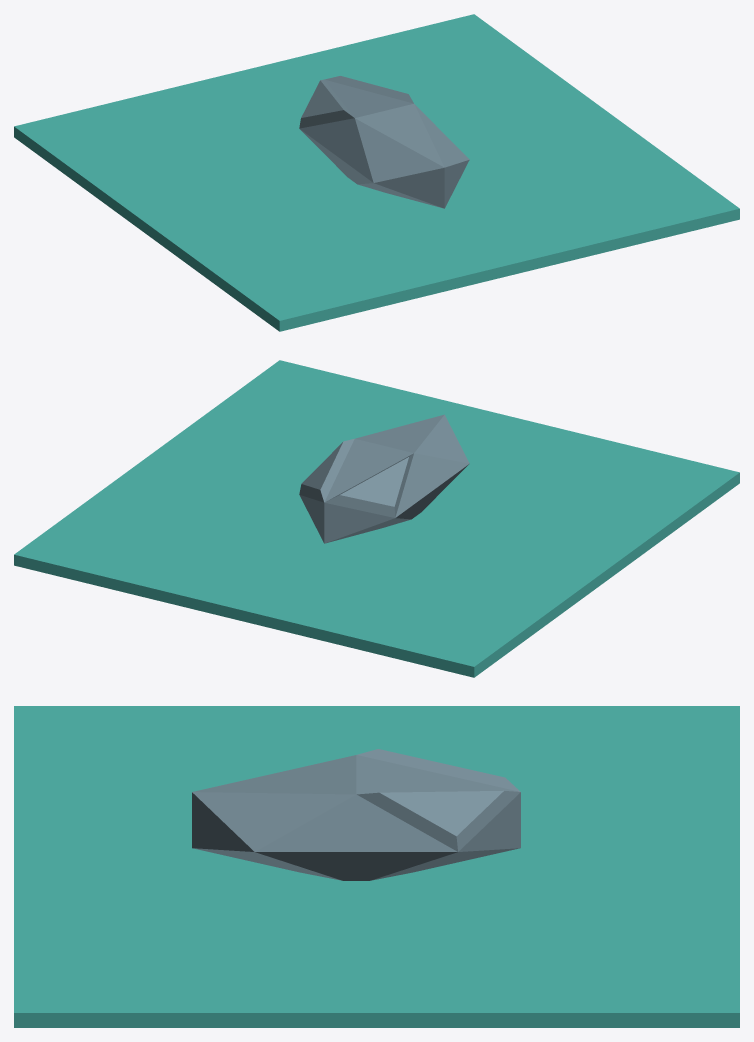
Rendered from Maus.fbx.
3 renders of one model, top to bottom at view 1: azimuth 30°, elevation 25°; view 2: azimuth 150°, elevation 25°; view 3: azimuth 270°, elevation 25°, orthographic. The views are drawn at different scales.
Parts seen in each view (by area): view 1: Mousepad, Platonischer_Körper; view 2: Mousepad, Platonischer_Körper; view 3: Mousepad, Platonischer_Körper.
Boxes of the visible parts, x1=… form: Mousepad: x1=14, y1=14, x2=739, y2=331; Platonischer_Körper: x1=299, y1=76, x2=469, y2=208; Mousepad: x1=14, y1=360, x2=739, y2=677; Platonischer_Körper: x1=299, y1=414, x2=469, y2=543; Mousepad: x1=14, y1=706, x2=739, y2=1027; Platonischer_Körper: x1=192, y1=749, x2=520, y2=880.
Size of the model in its own units: 68 by 10.73 by 68.
